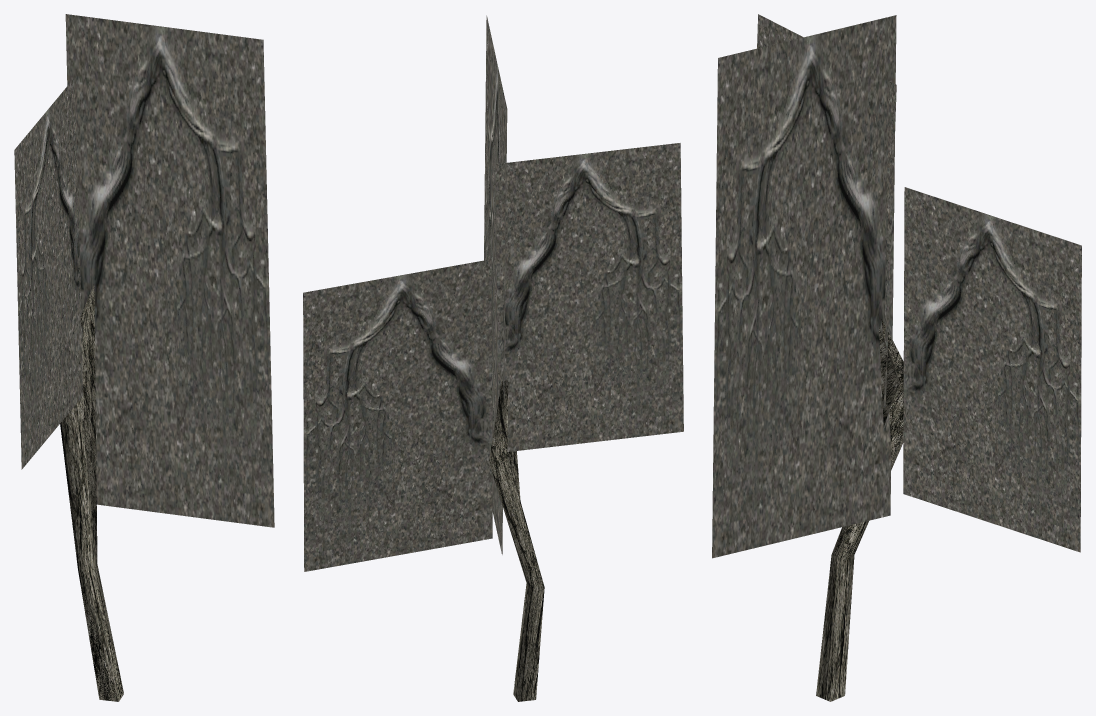
Rendered from shrb_dath_glingi_a1_l1.fbx.
The picture shows the model from 3 angles, left to right: view 1: azimuth 30°, elevation 25°; view 2: azimuth 150°, elevation 25°; view 3: azimuth 270°, elevation 25°; orthographic projection. The views are drawn at different scales.
Parts seen in each view (by area): view 1: mesh_node; view 2: mesh_node; view 3: mesh_node.
Boxes of the visible parts, x1=… form: mesh_node: x1=14, y1=14, x2=274, y2=701; mesh_node: x1=303, y1=15, x2=683, y2=701; mesh_node: x1=712, y1=14, x2=1081, y2=701.
Bounding box in the file's own units: 2.25 × 5.83 × 2.85.
